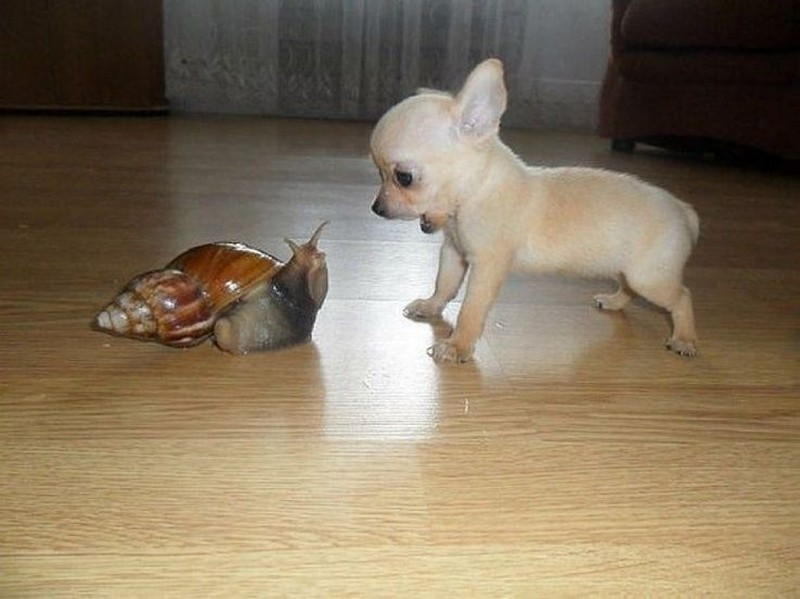dog: (354, 64, 737, 362)
